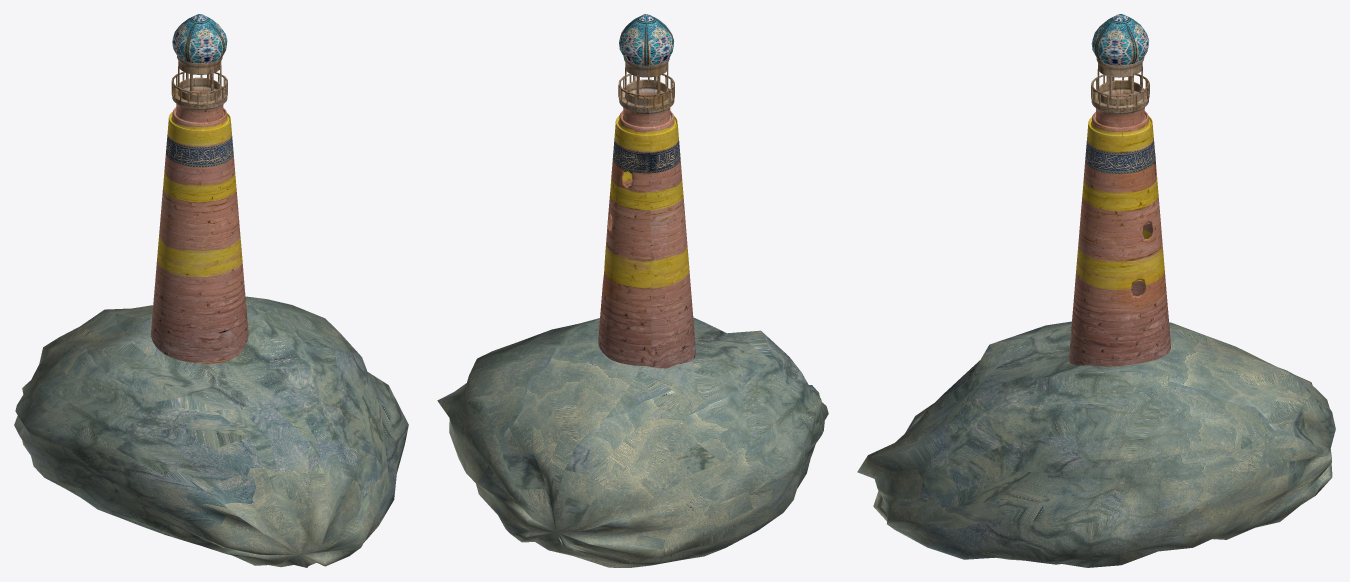
File: lighthouse2.obj
3 views of the same model, side by side, from view 1: azimuth 30°, elevation 25°; view 2: azimuth 150°, elevation 25°; view 3: azimuth 270°, elevation 25° (orthographic). The views are drawn at different scales.
Visible parts, largest first — view 1: Sphere05, Cylinder01, Object001; view 2: Sphere05, Cylinder01, Object001; view 3: Sphere05, Cylinder01, Object001.
Boxes of the visible parts, x1,y1,x2,y2 form: Sphere05: (14,296,408,567); Cylinder01: (150,56,248,363); Object001: (172,14,227,63); Sphere05: (437,317,828,567); Cylinder01: (598,57,695,368); Object001: (619,14,673,65); Sphere05: (857,321,1335,567); Cylinder01: (1069,57,1170,366); Object001: (1091,14,1148,65).
Size of the model in its own units: 245 by 336 by 288.
5 materials, 5 textured.
